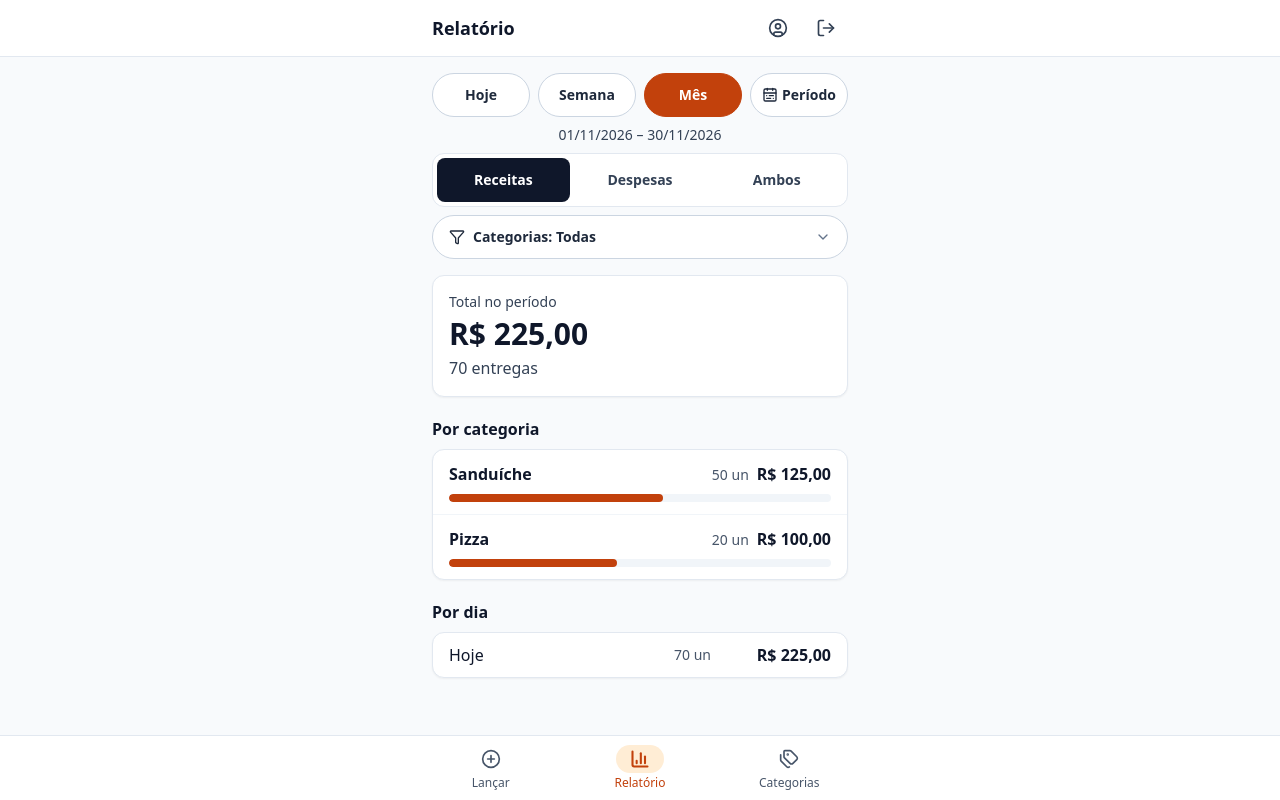
RelatorioPage › bloqueia período personalizado com início > fim
Expected: the element "Período" is shown, top-left (432, 73), bottom-right (848, 117)
Expected: the element "Total no período" is shown, top-left (432, 275), bottom-right (848, 397)
Click the button "Período" at (799, 95), box top-left (750, 73), bottom-right (848, 117)
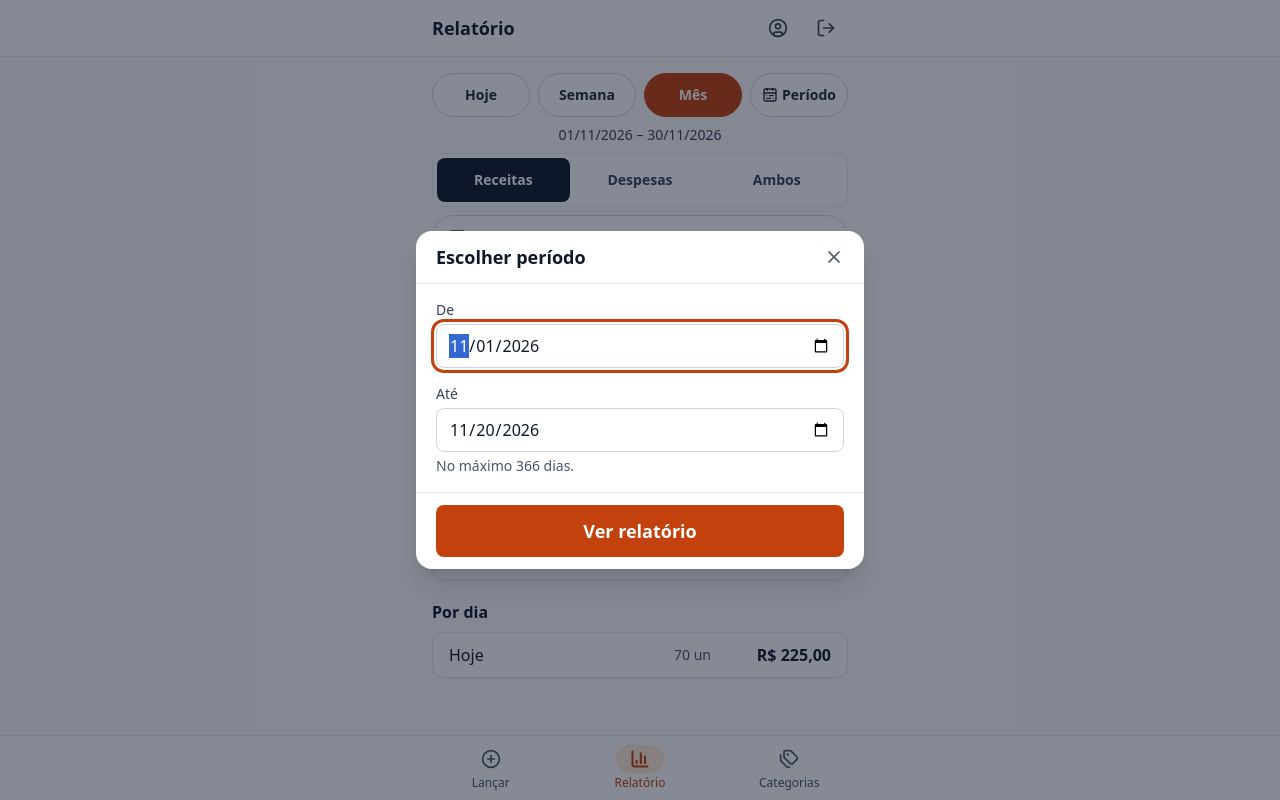
Type "2026-11-15" into the date field labelled "De" at (640, 346), box top-left (436, 324), bottom-right (844, 368)
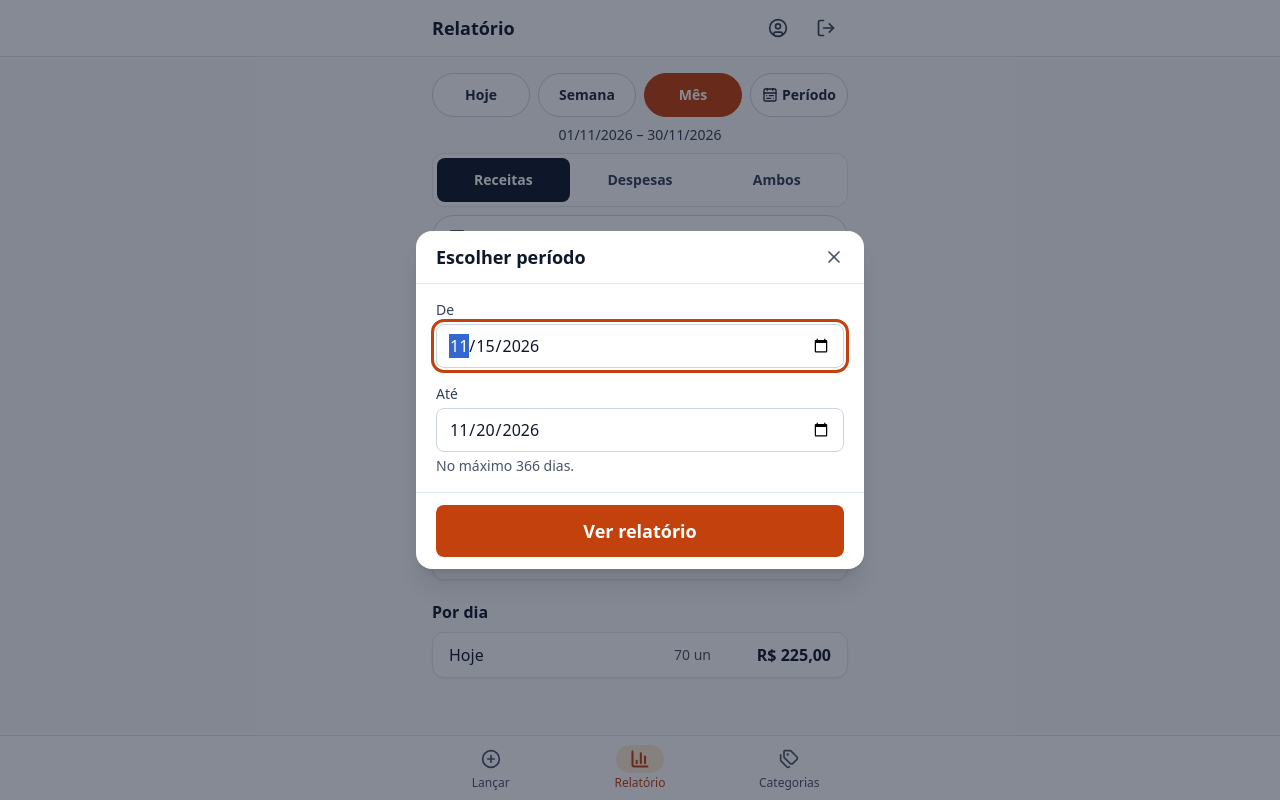
Type "2026-11-10" into the date field labelled "Até" at (640, 430), box top-left (436, 408), bottom-right (844, 452)
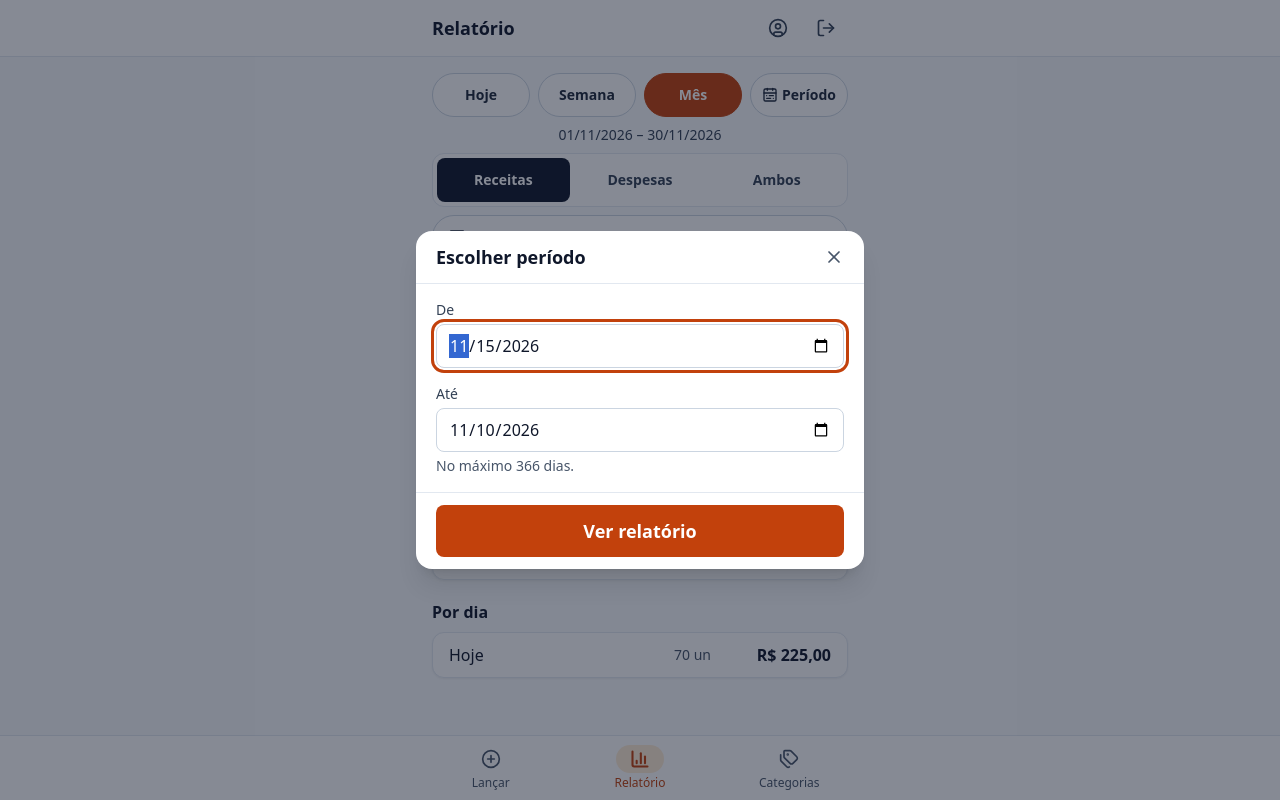
Click the button "Ver relatório" at (640, 531), box top-left (436, 505), bottom-right (844, 557)
(page scrolled)
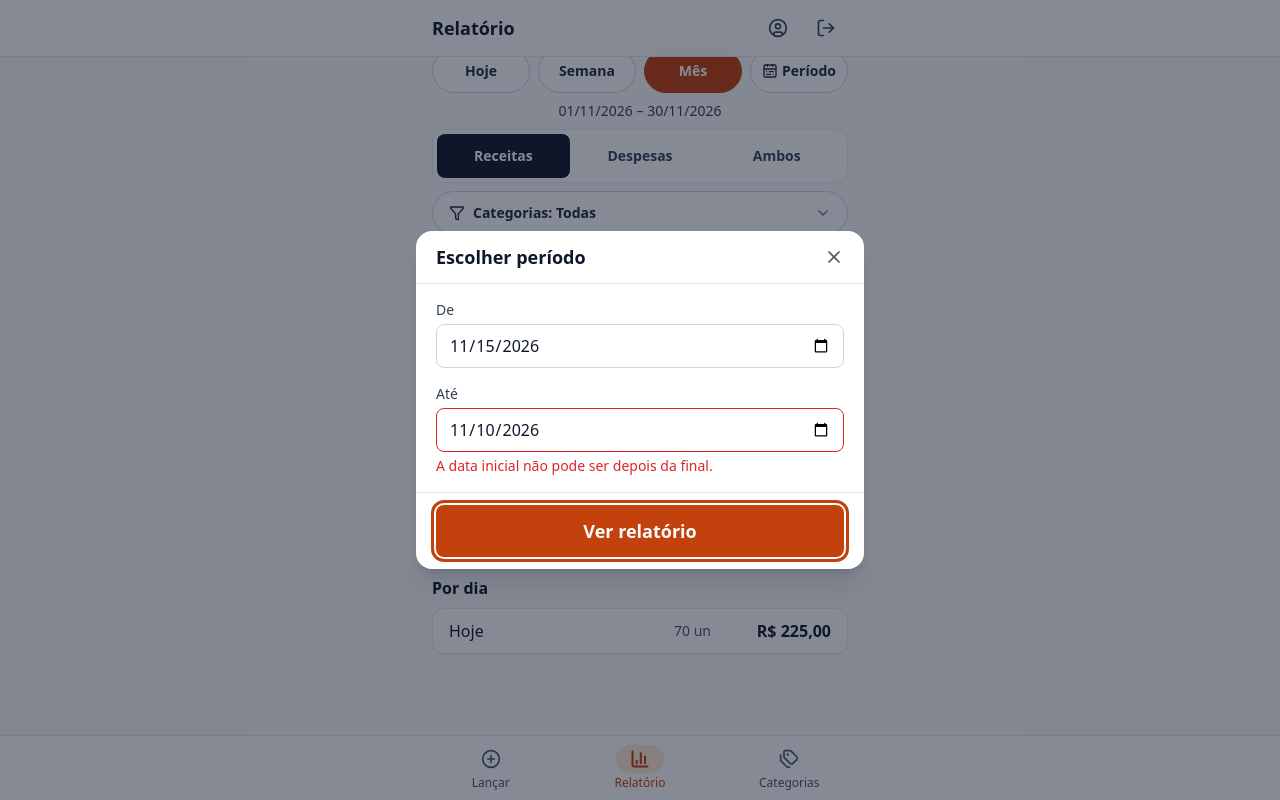
Now the dialog is shown, box top-left (416, 231), bottom-right (864, 569)
Now the text "A data inicial não pode ser depois da final." is shown, box top-left (436, 456), bottom-right (713, 475)
